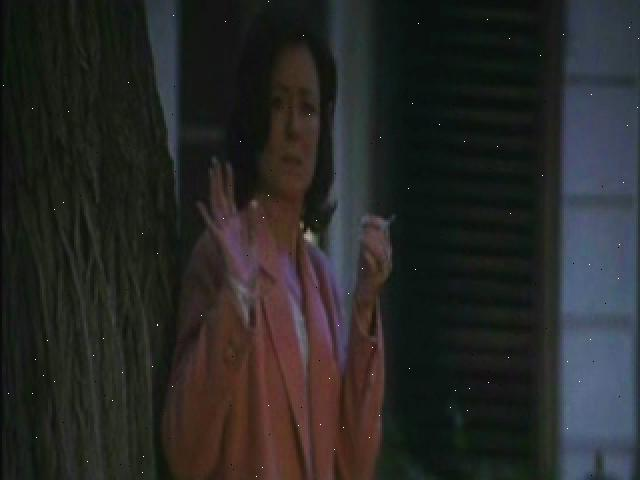T: (160, 14, 394, 480)
